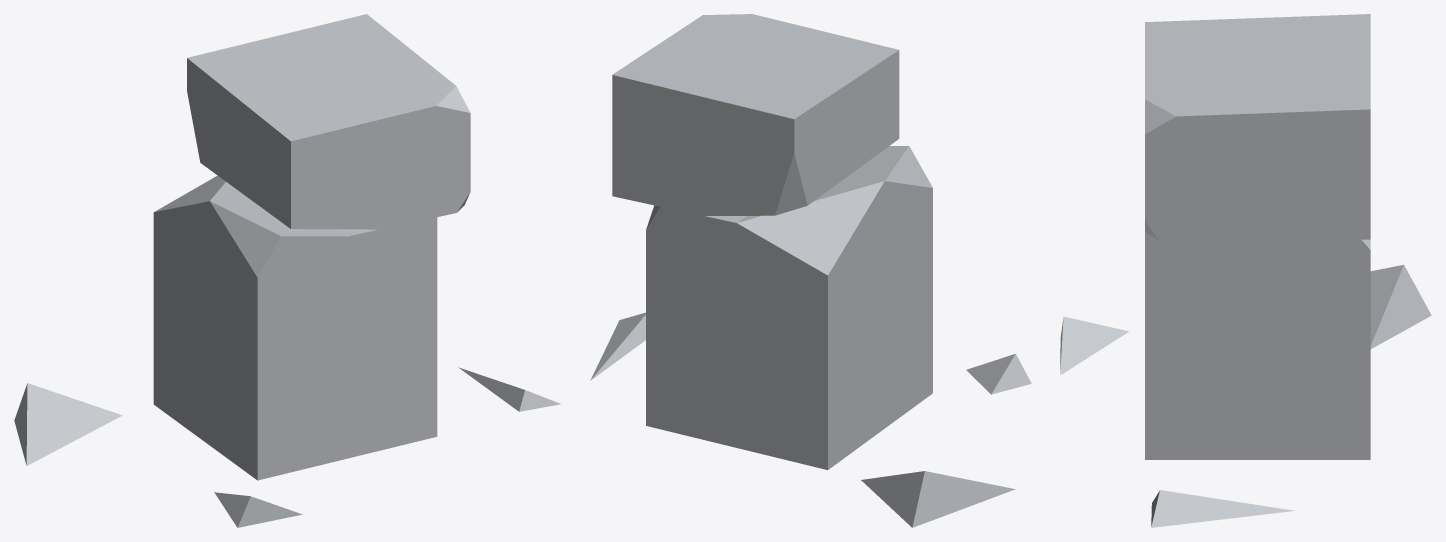
Rendered from Rock_Square_crk_m_05.fbx.
3 renders of one model, left to right at view 1: azimuth 30°, elevation 25°; view 2: azimuth 150°, elevation 25°; view 3: azimuth 270°, elevation 25°, orthographic. The views are drawn at different scales.
Visible parts, largest first — view 1: Rock_Square_crk_m_05; view 2: Rock_Square_crk_m_05; view 3: Rock_Square_crk_m_05.
Boxes of the visible parts, x1,y1,x2,y2 form: Rock_Square_crk_m_05: (14,14,561,527); Rock_Square_crk_m_05: (590,14,1031,527); Rock_Square_crk_m_05: (1060,14,1431,527).
Bounding box in the file's own units: 136 × 97.46 × 86.76.
